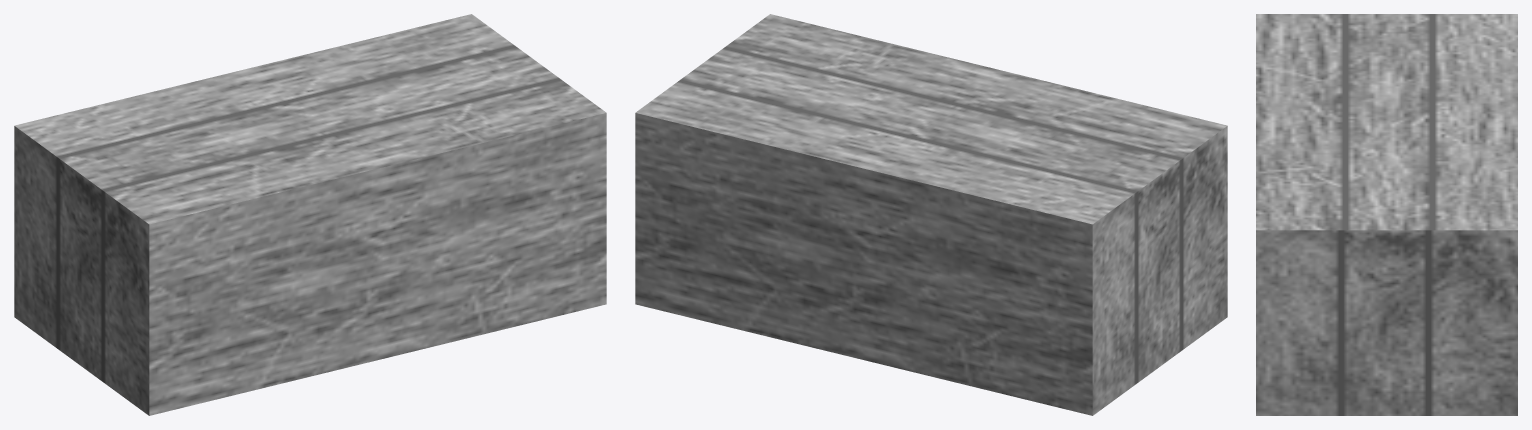
The model's file is balik_hranaty.glb.
3 views of the same model, side by side, from view 1: azimuth 30°, elevation 25°; view 2: azimuth 150°, elevation 25°; view 3: azimuth 270°, elevation 25° (orthographic). The views are drawn at different scales.
Visible parts, largest first — view 1: balik_hranaty; view 2: balik_hranaty; view 3: balik_hranaty.
Boxes of the visible parts, box(x1,y1,x2,y2) form: balik_hranaty: box(14, 14, 606, 415); balik_hranaty: box(635, 14, 1227, 415); balik_hranaty: box(1256, 14, 1517, 415).
Size of the model in its own units: 0.9 by 0.36 by 0.46.
Materials: 1 (1 with a texture image).
